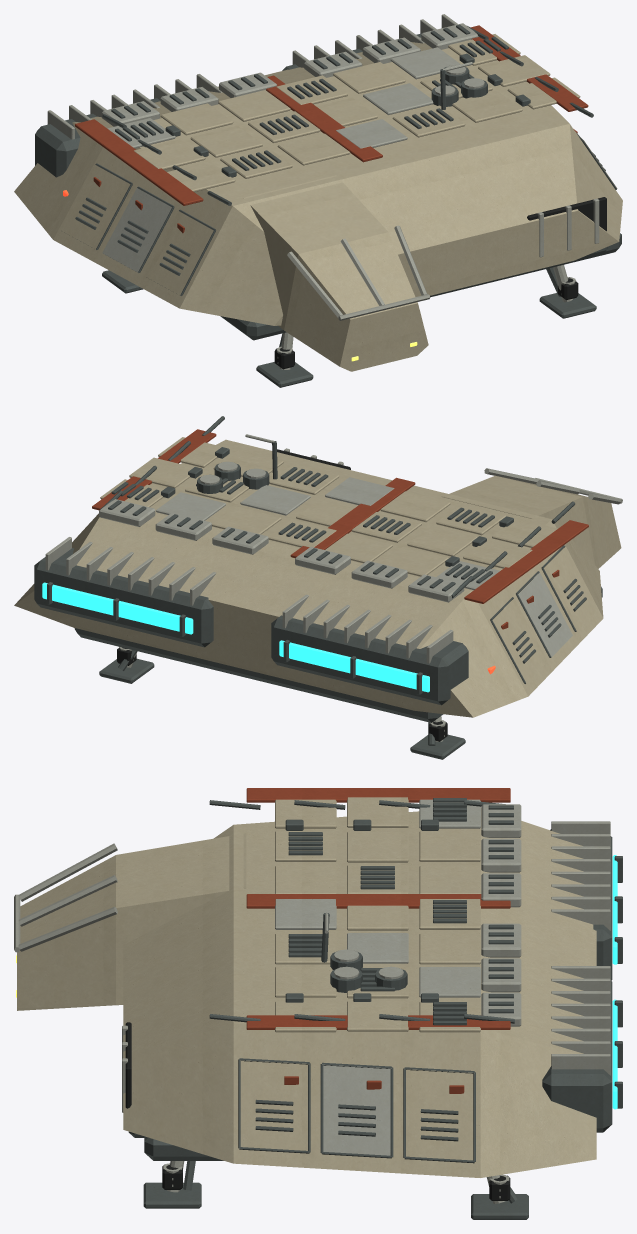
File: freighter.glb
3 renders of one model, top to bottom at view 1: azimuth 30°, elevation 25°; view 2: azimuth 150°, elevation 25°; view 3: azimuth 270°, elevation 25°, orthographic. The views are drawn at different scales.
Visible parts, largest first — view 1: Ship_Hull | Population brass and hull alloy.001; view 2: Ship_Hull | Population brass and hull alloy.001, Engine_R | Population luminous cyan.001, Engine_L | Population luminous cyan.001; view 3: Ship_Hull | Population brass and hull alloy.001, Engine_R | Population luminous cyan.001, Engine_L | Population luminous cyan.001.
Boxes of the visible parts, x1,y1,x2,y2 form: Ship_Hull | Population brass and hull alloy.001: (14, 14, 622, 387); Ship_Hull | Population brass and hull alloy.001: (14, 416, 622, 759); Engine_R | Population luminous cyan.001: (42, 582, 193, 634); Engine_L | Population luminous cyan.001: (279, 640, 429, 692); Ship_Hull | Population brass and hull alloy.001: (14, 788, 622, 1219); Engine_R | Population luminous cyan.001: (612, 999, 617, 1109); Engine_L | Population luminous cyan.001: (612, 855, 617, 964).
Size of the model in its own units: 9.25 by 3.71 by 8.19.
Materials: 4 (1 with a texture image).
